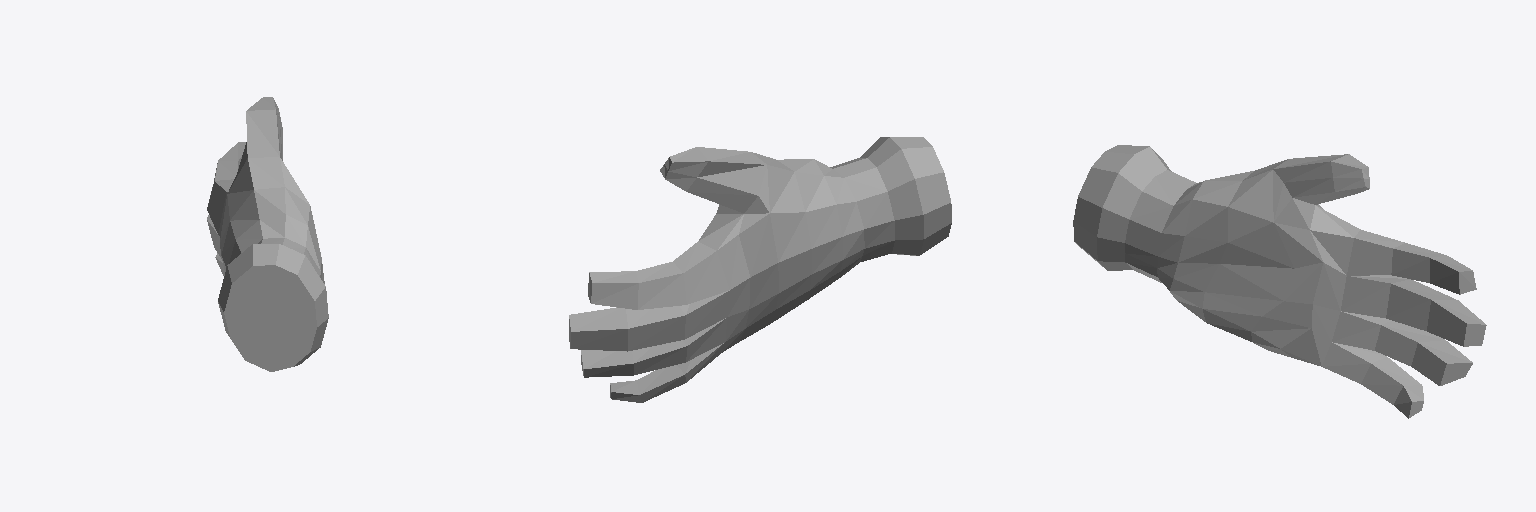
File: lhand.obj
3 views of the same model, side by side, from view 1: azimuth 30°, elevation 25°; view 2: azimuth 150°, elevation 25°; view 3: azimuth 270°, elevation 25° (orthographic).
Visible parts, largest first — view 1: Cylinder.003_Cylinder.005; view 2: Cylinder.003_Cylinder.005; view 3: Cylinder.003_Cylinder.005.
Part boxes in pixels (x1,y1,x2,y2): Cylinder.003_Cylinder.005: (207, 97, 328, 371); Cylinder.003_Cylinder.005: (569, 137, 951, 402); Cylinder.003_Cylinder.005: (1073, 145, 1486, 418).
Bounding box in the file's own units: 1.35 × 1.4 × 2.25.